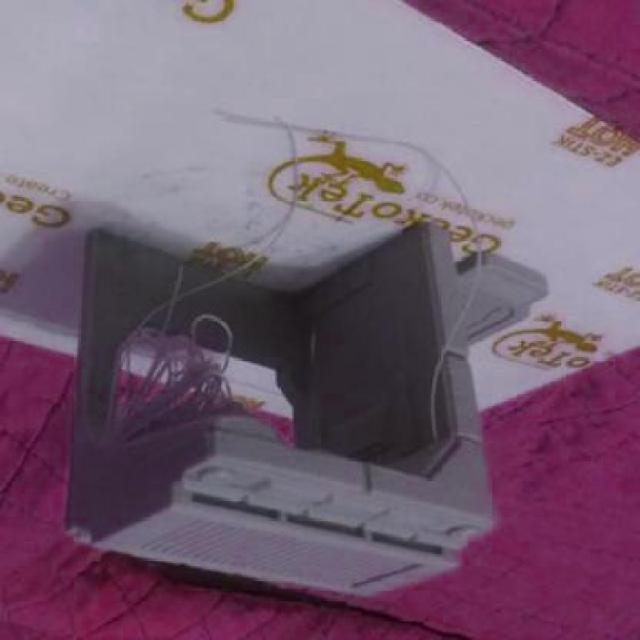spaghetti: (110, 268, 235, 448), (427, 243, 487, 448)
